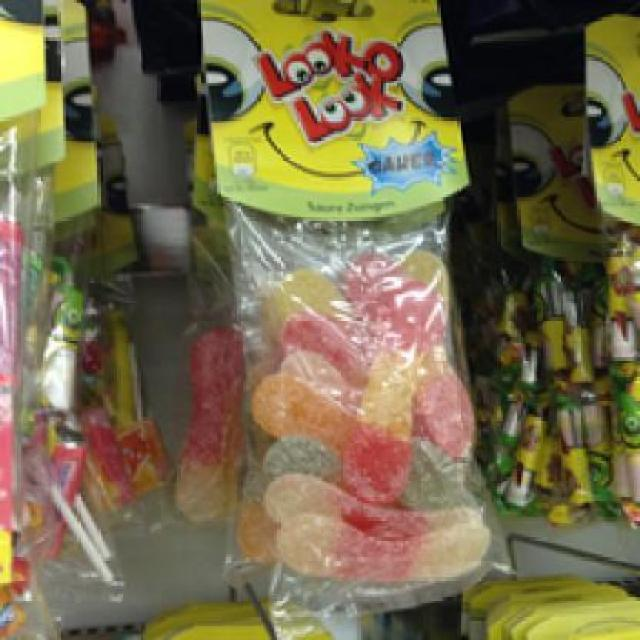Candy: (206, 2, 488, 592)
